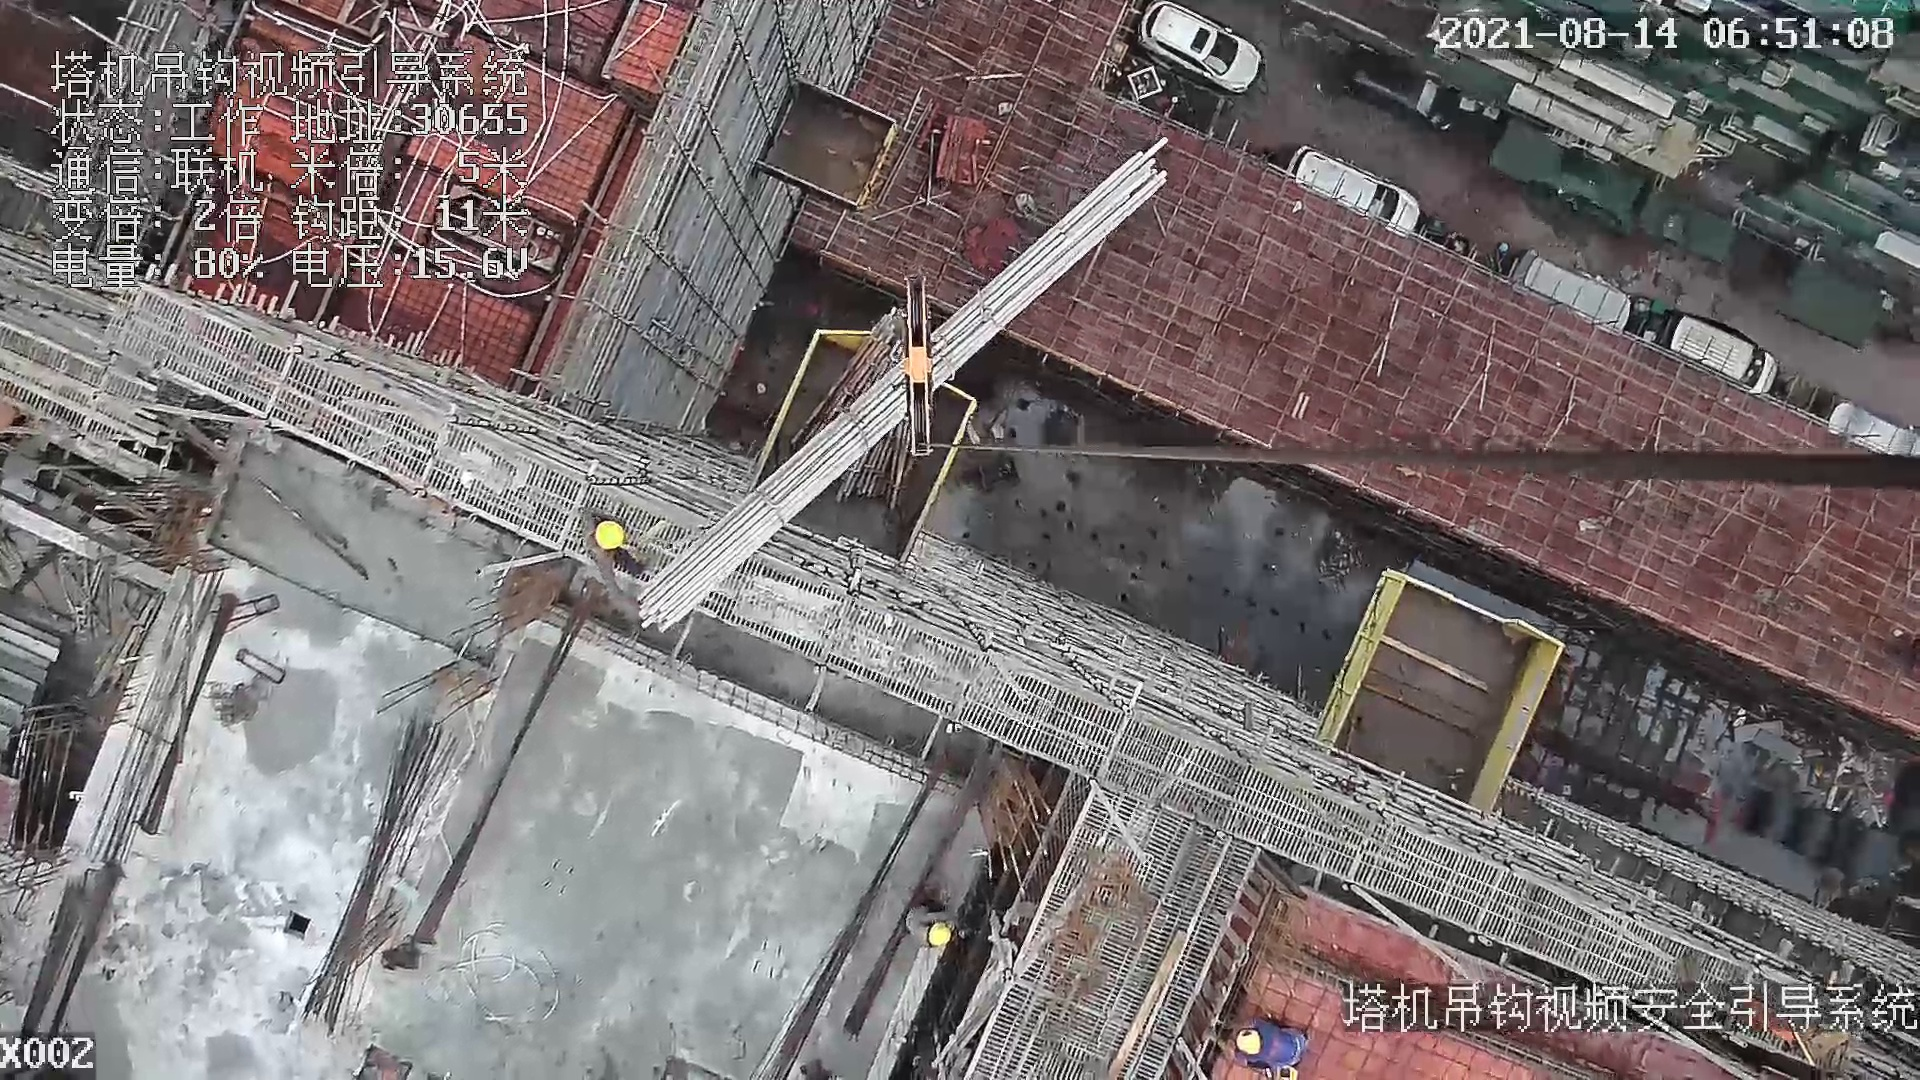helmet: (594, 516, 628, 551), (925, 926, 950, 953), (1235, 1033, 1259, 1054)
hook: (892, 267, 944, 463)
person: (574, 506, 645, 606), (1228, 1017, 1315, 1080), (895, 892, 964, 946)
rebar: (636, 143, 1167, 624), (308, 718, 447, 1020)
